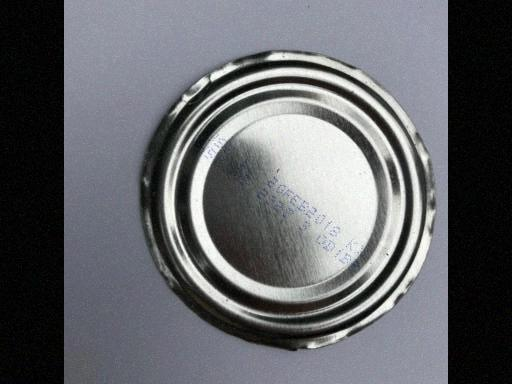metal: (138, 50, 435, 353)
